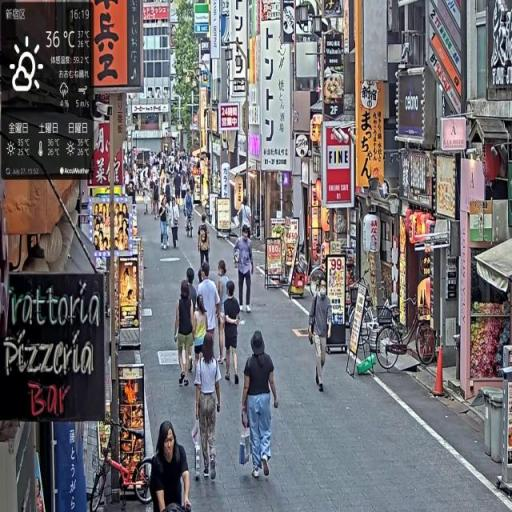person: (242, 331, 279, 482), (194, 334, 223, 480), (151, 422, 192, 512), (309, 275, 334, 393), (175, 281, 198, 387), (197, 264, 221, 364), (223, 281, 243, 386), (235, 224, 256, 315), (216, 259, 232, 367), (198, 213, 211, 275), (159, 196, 171, 252), (170, 200, 182, 252), (185, 189, 195, 238)
